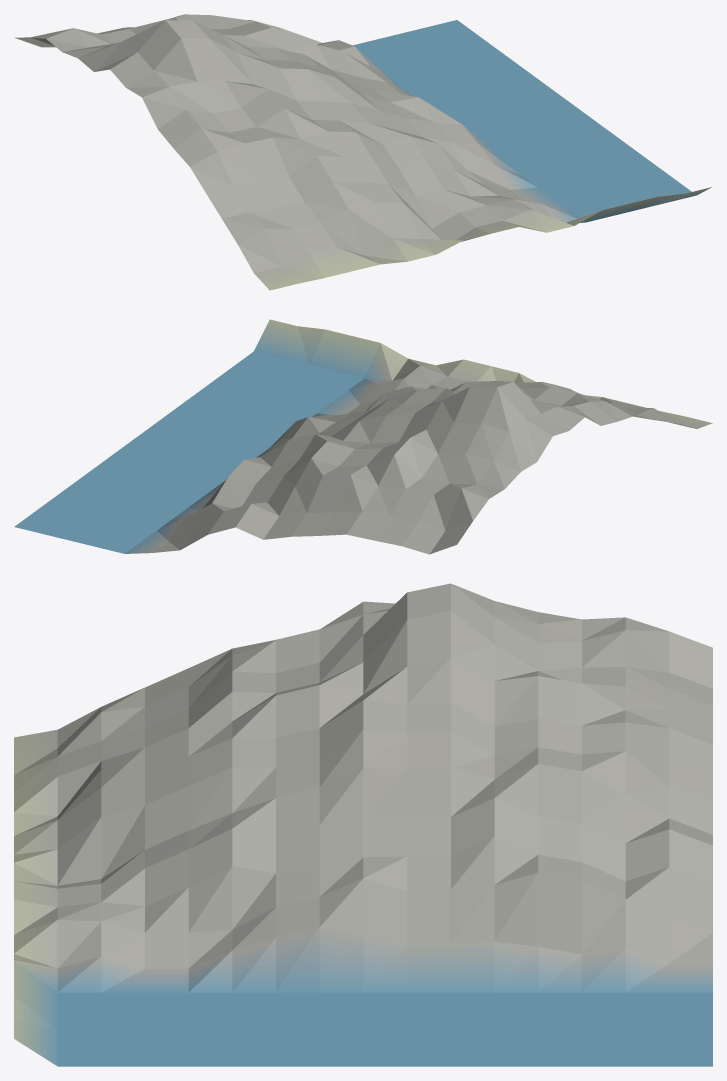
The picture shows the model from 3 angles, top to bottom: view 1: azimuth 30°, elevation 25°; view 2: azimuth 150°, elevation 25°; view 3: azimuth 270°, elevation 25°; orthographic projection. The views are drawn at different scales.
Size of the model in its own units: 32 by 11.34 by 32.
